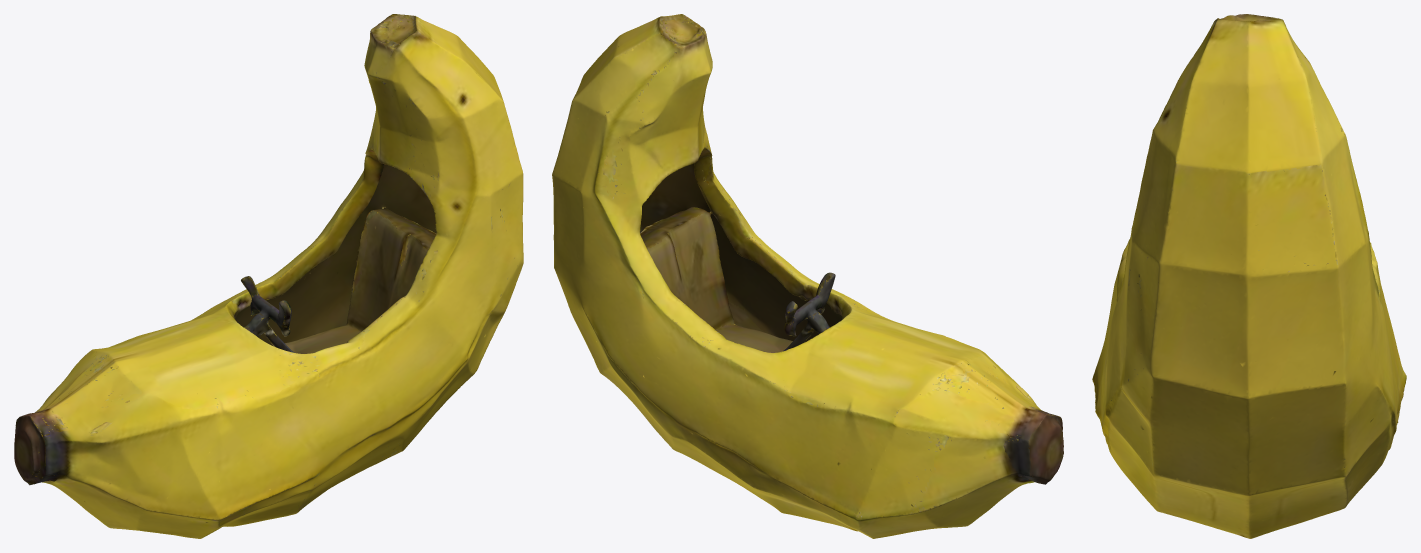
File: Meshy_AI_banana_3d_0329211148_texture.glb
3 views of the same model, side by side, from view 1: azimuth 30°, elevation 25°; view 2: azimuth 150°, elevation 25°; view 3: azimuth 270°, elevation 25° (orthographic). The views are drawn at different scales.
Size of the model in its own units: 2.01 by 1.77 by 0.8599.
Materials: 1 (1 with a texture image).
